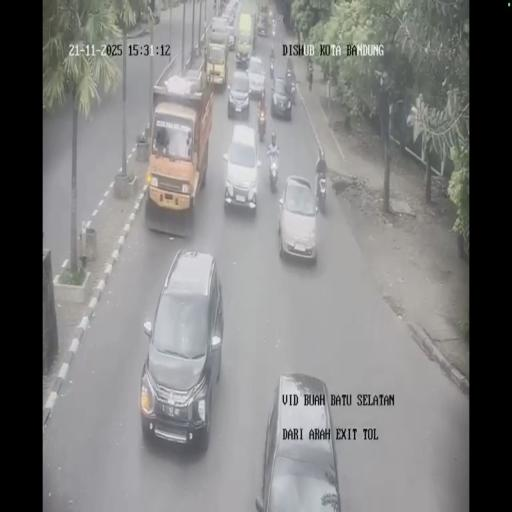car: (140, 248, 224, 448), (277, 175, 318, 261), (223, 123, 260, 214), (226, 67, 250, 117), (246, 54, 266, 100), (210, 16, 230, 55), (222, 0, 238, 24), (257, 9, 268, 36), (228, 32, 235, 50)
motorcycle: (267, 146, 279, 191), (317, 179, 327, 213), (257, 110, 266, 142), (288, 78, 296, 104), (307, 70, 313, 90), (271, 19, 277, 37), (270, 58, 274, 79)
truck: (146, 52, 214, 219), (234, 1, 260, 65)
